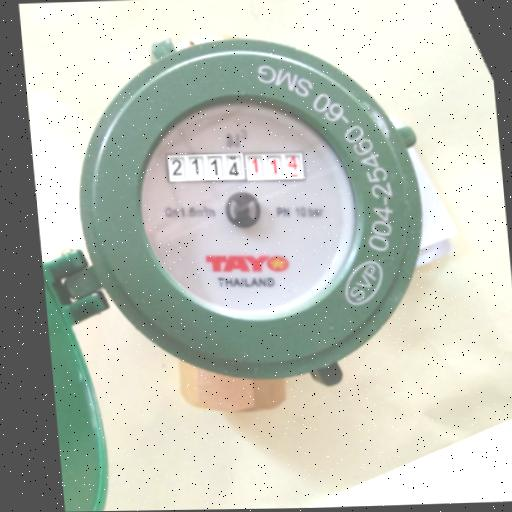1: (247, 156, 263, 177), (188, 158, 204, 178), (206, 157, 222, 177), (266, 156, 282, 176)
2: (169, 157, 185, 179)
4: (226, 156, 242, 177), (284, 156, 300, 177)
border_water_meter_number: (164, 149, 306, 186)
